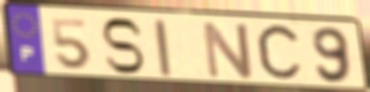5: (49, 17, 93, 71)
9: (310, 26, 354, 86)
C: (254, 21, 306, 85)
I: (151, 18, 175, 78)
N: (201, 19, 256, 81)
S: (99, 16, 147, 76)
